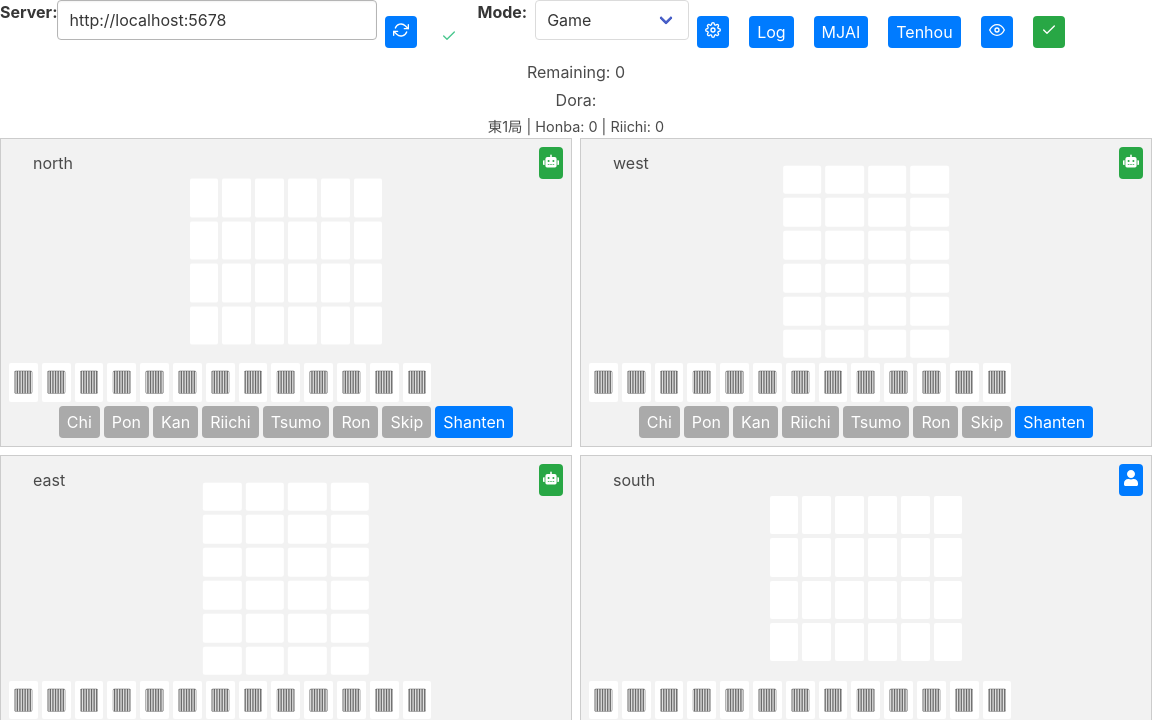
App reload › restores server and game id from localStorage
Expected: the field labelled "Server:" holds "http://localhost:5678", [58,0,378,40]
Click the button named "Options".
click(713, 32)  # box [697,16,729,48]
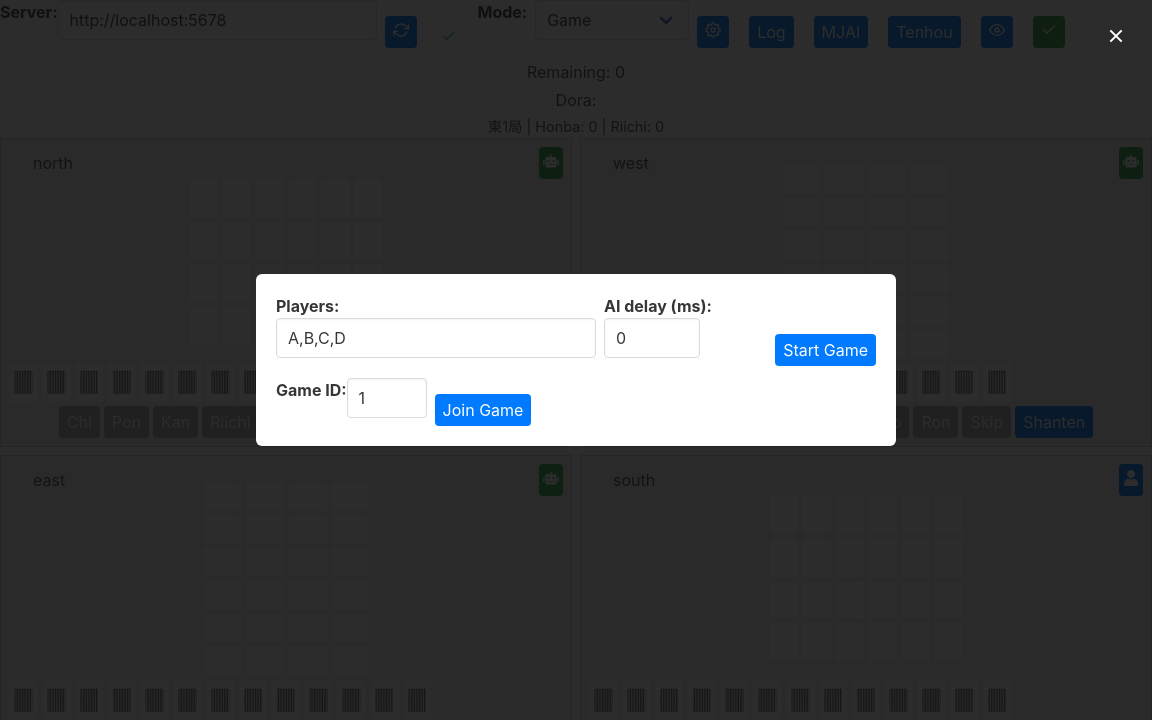
Expected: the field labelled "Game ID:" holds "1", [347,378,427,418]
